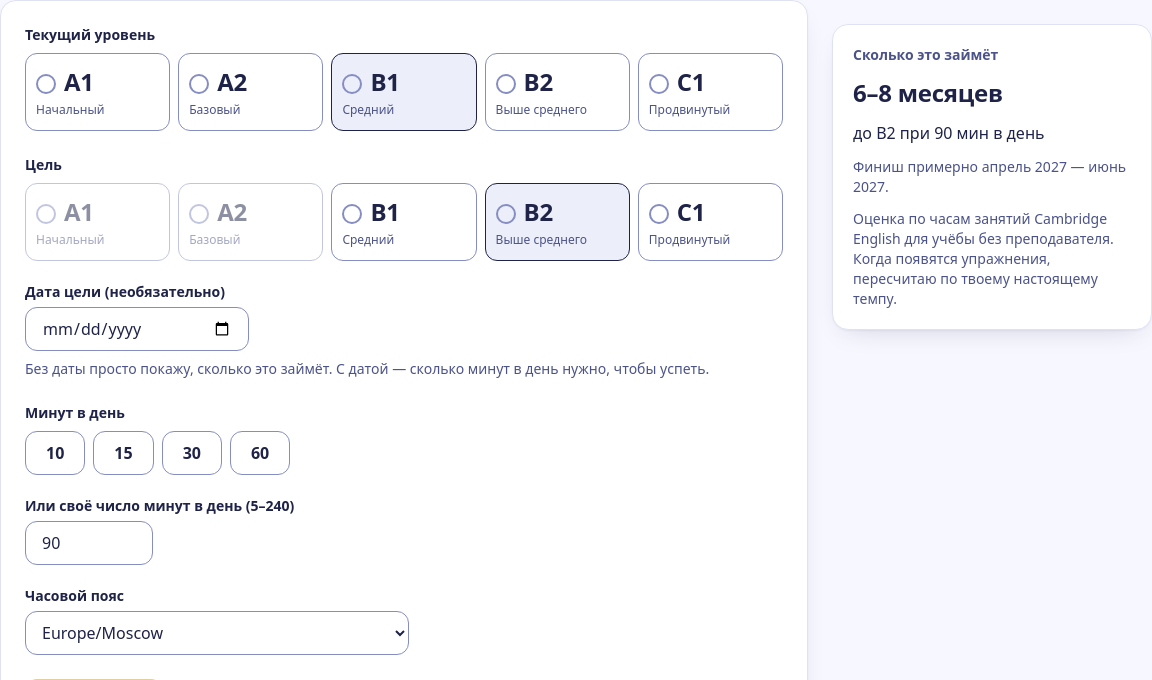
Test: настройки › уровень выше цели поднимает цель
Step 1. Click the 1st radio button labelled "C1 Продвинутый" → (710, 92), box [638, 53, 783, 131]
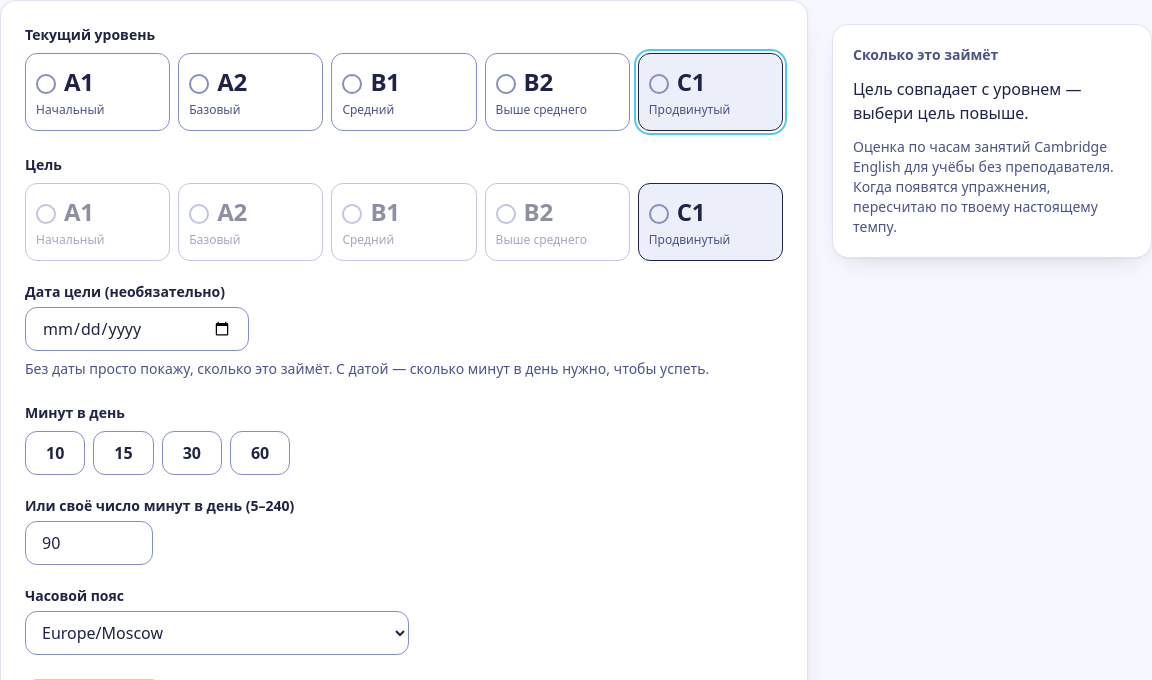
Expected: the 2nd radio button labelled "C1 Продвинутый" is checked, [638, 183, 783, 261]
Expected: the 2nd radio button labelled "B2 Выше среднего" is disabled, [485, 183, 630, 261]
